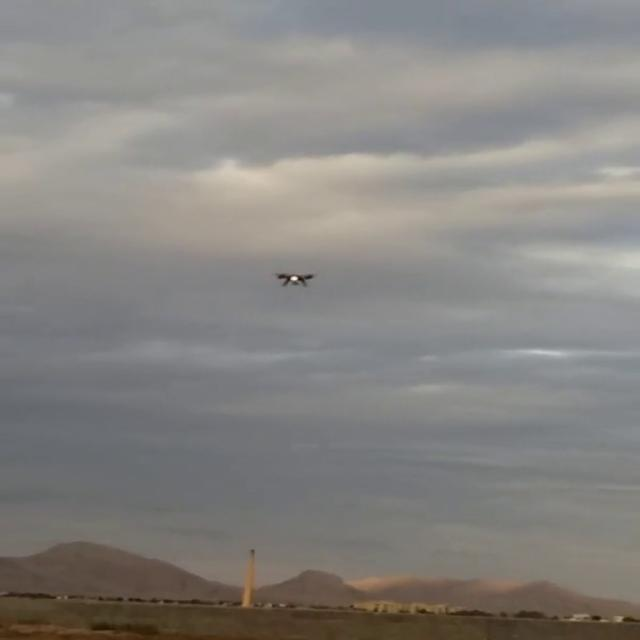drone: (272, 266, 320, 292)
